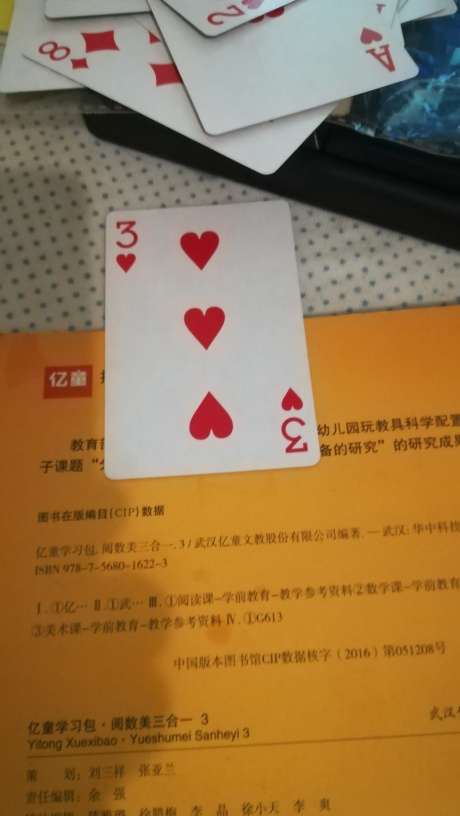hx 3: (101, 198, 322, 483)
